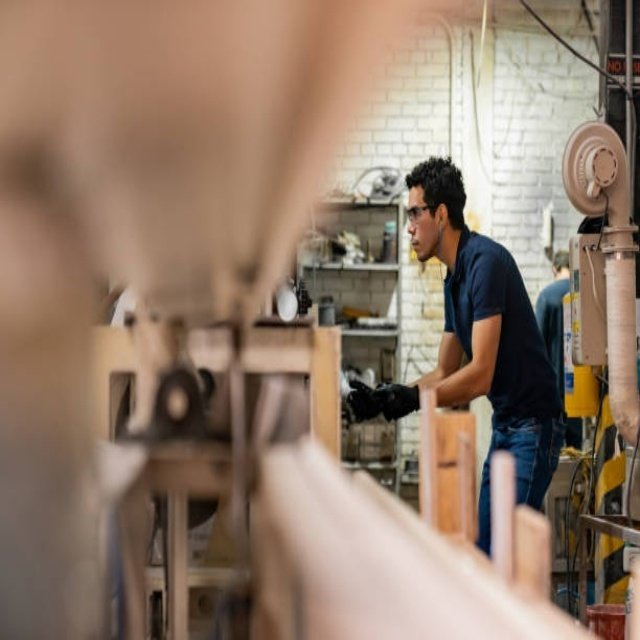Gafas: (405, 205, 436, 222)
Guantes: (375, 375, 424, 424), (345, 382, 386, 424)
Sin_mascara: (409, 234, 427, 265)
